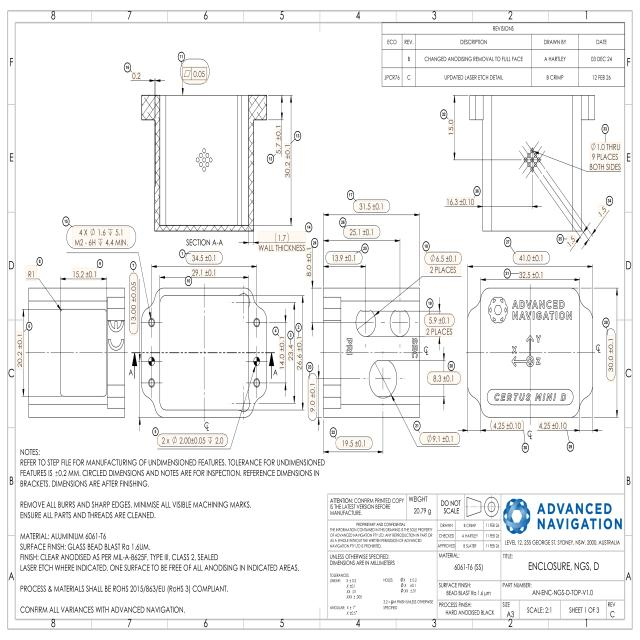dimension: (72, 225, 130, 248), (258, 230, 306, 254), (587, 142, 622, 172), (424, 251, 462, 274), (157, 434, 226, 446), (424, 314, 453, 338), (419, 432, 458, 444), (606, 332, 615, 382), (427, 371, 461, 384), (130, 278, 138, 332), (515, 252, 546, 264), (308, 378, 317, 416), (339, 438, 370, 449), (490, 420, 524, 430), (190, 252, 217, 264), (16, 330, 24, 370), (356, 201, 385, 212), (72, 268, 98, 280), (332, 252, 358, 264), (346, 227, 377, 237), (446, 197, 475, 207), (295, 336, 303, 372), (537, 421, 568, 430), (278, 336, 286, 370), (190, 268, 217, 278), (518, 270, 544, 280), (284, 143, 291, 180), (274, 125, 282, 156), (24, 265, 38, 281), (306, 246, 312, 278), (597, 204, 608, 218), (566, 234, 577, 248), (447, 118, 455, 136), (287, 342, 294, 362), (131, 70, 142, 81)
